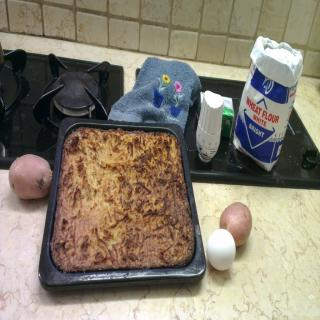Egg: (206, 228, 237, 270)
